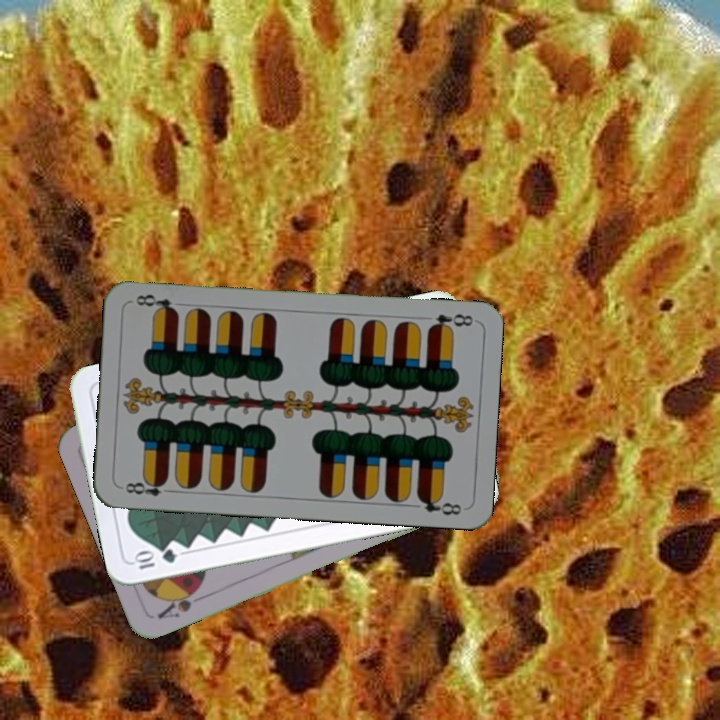E8: (121, 475, 177, 499), (424, 310, 476, 334)
G10: (130, 545, 179, 572)
SA: (153, 582, 208, 622)
